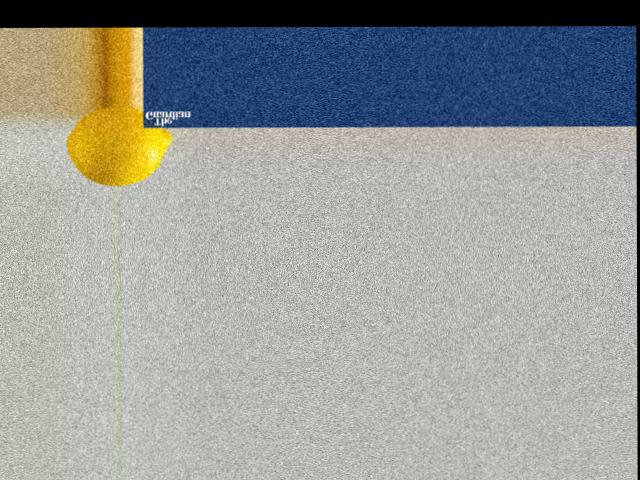lemon: (60, 105, 178, 186)
